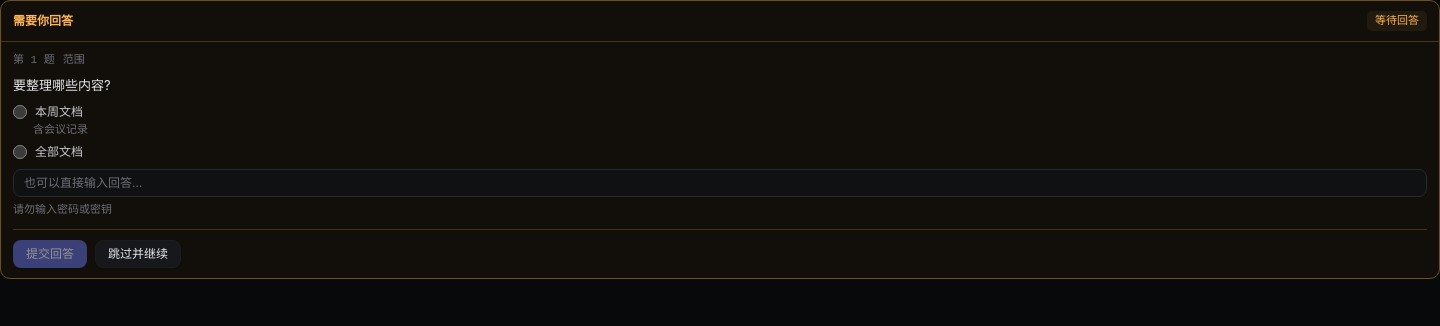
QuestionCard › 提交失败展示可读错误且保持可编辑
Click the radio button labelled "本周文档".
click(20, 112)  # box top-left (13, 104), bottom-right (27, 118)
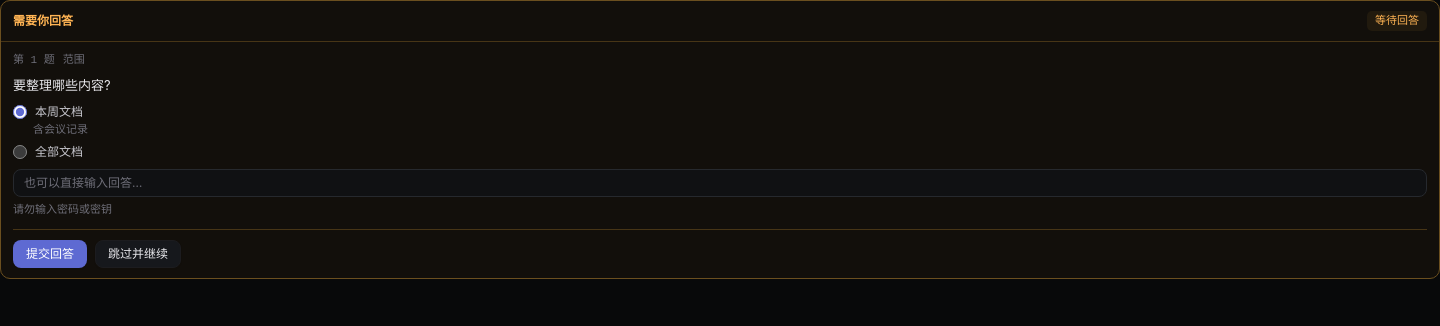
Click the button "提交回答".
click(50, 254)  # box top-left (13, 240), bottom-right (87, 268)
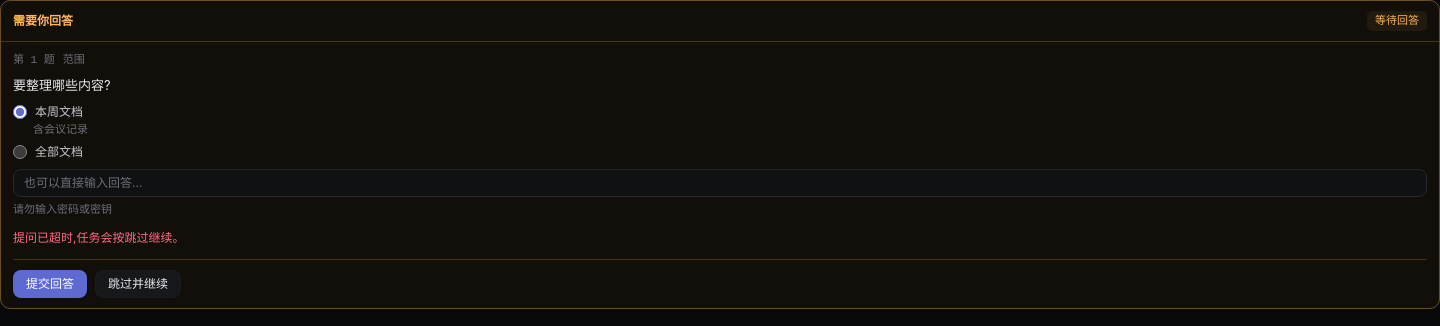
Expected: the button "提交回答" is shown, top-left (13, 270), bottom-right (87, 298)
Result: the message shows "提问已超时" at top-left (13, 230), bottom-right (184, 245)
